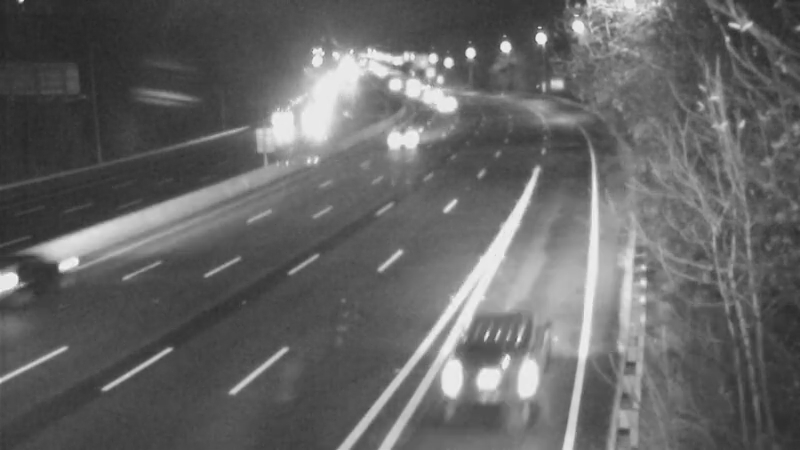vehicle: (438, 317, 548, 427), (1, 233, 75, 313), (369, 59, 419, 109), (389, 65, 439, 115), (408, 74, 458, 124), (423, 76, 473, 126), (387, 113, 437, 163), (257, 98, 307, 148), (291, 90, 341, 140)
